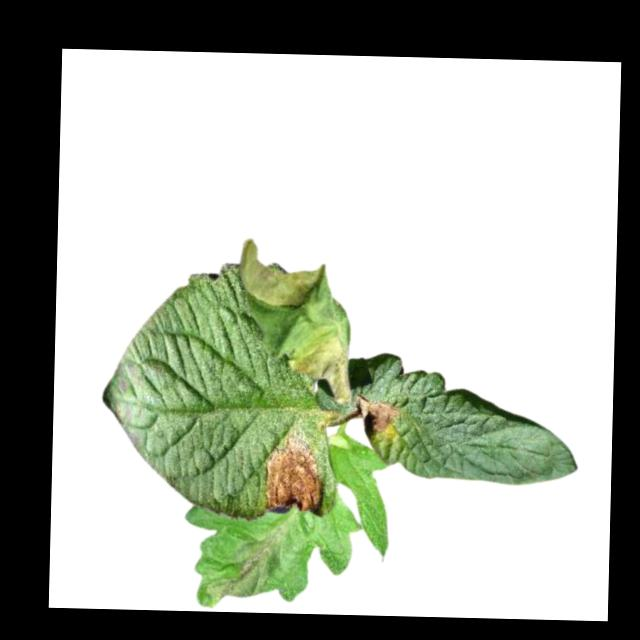Late_blight: (205, 525, 280, 610), (238, 237, 321, 311), (265, 431, 328, 516), (288, 325, 353, 406), (355, 394, 399, 435)
